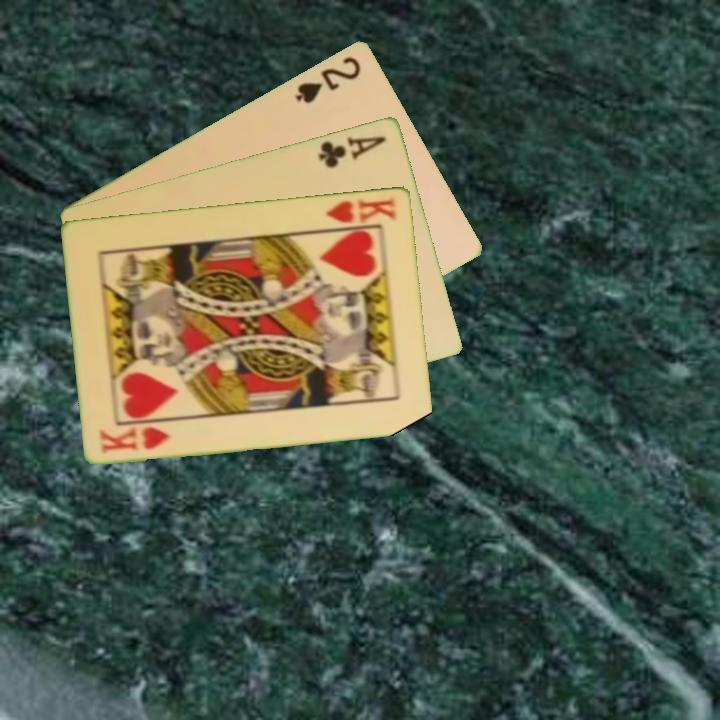2s: (292, 52, 364, 106)
Ac: (315, 132, 389, 171)
Kh: (319, 192, 398, 232), (97, 422, 173, 456)
